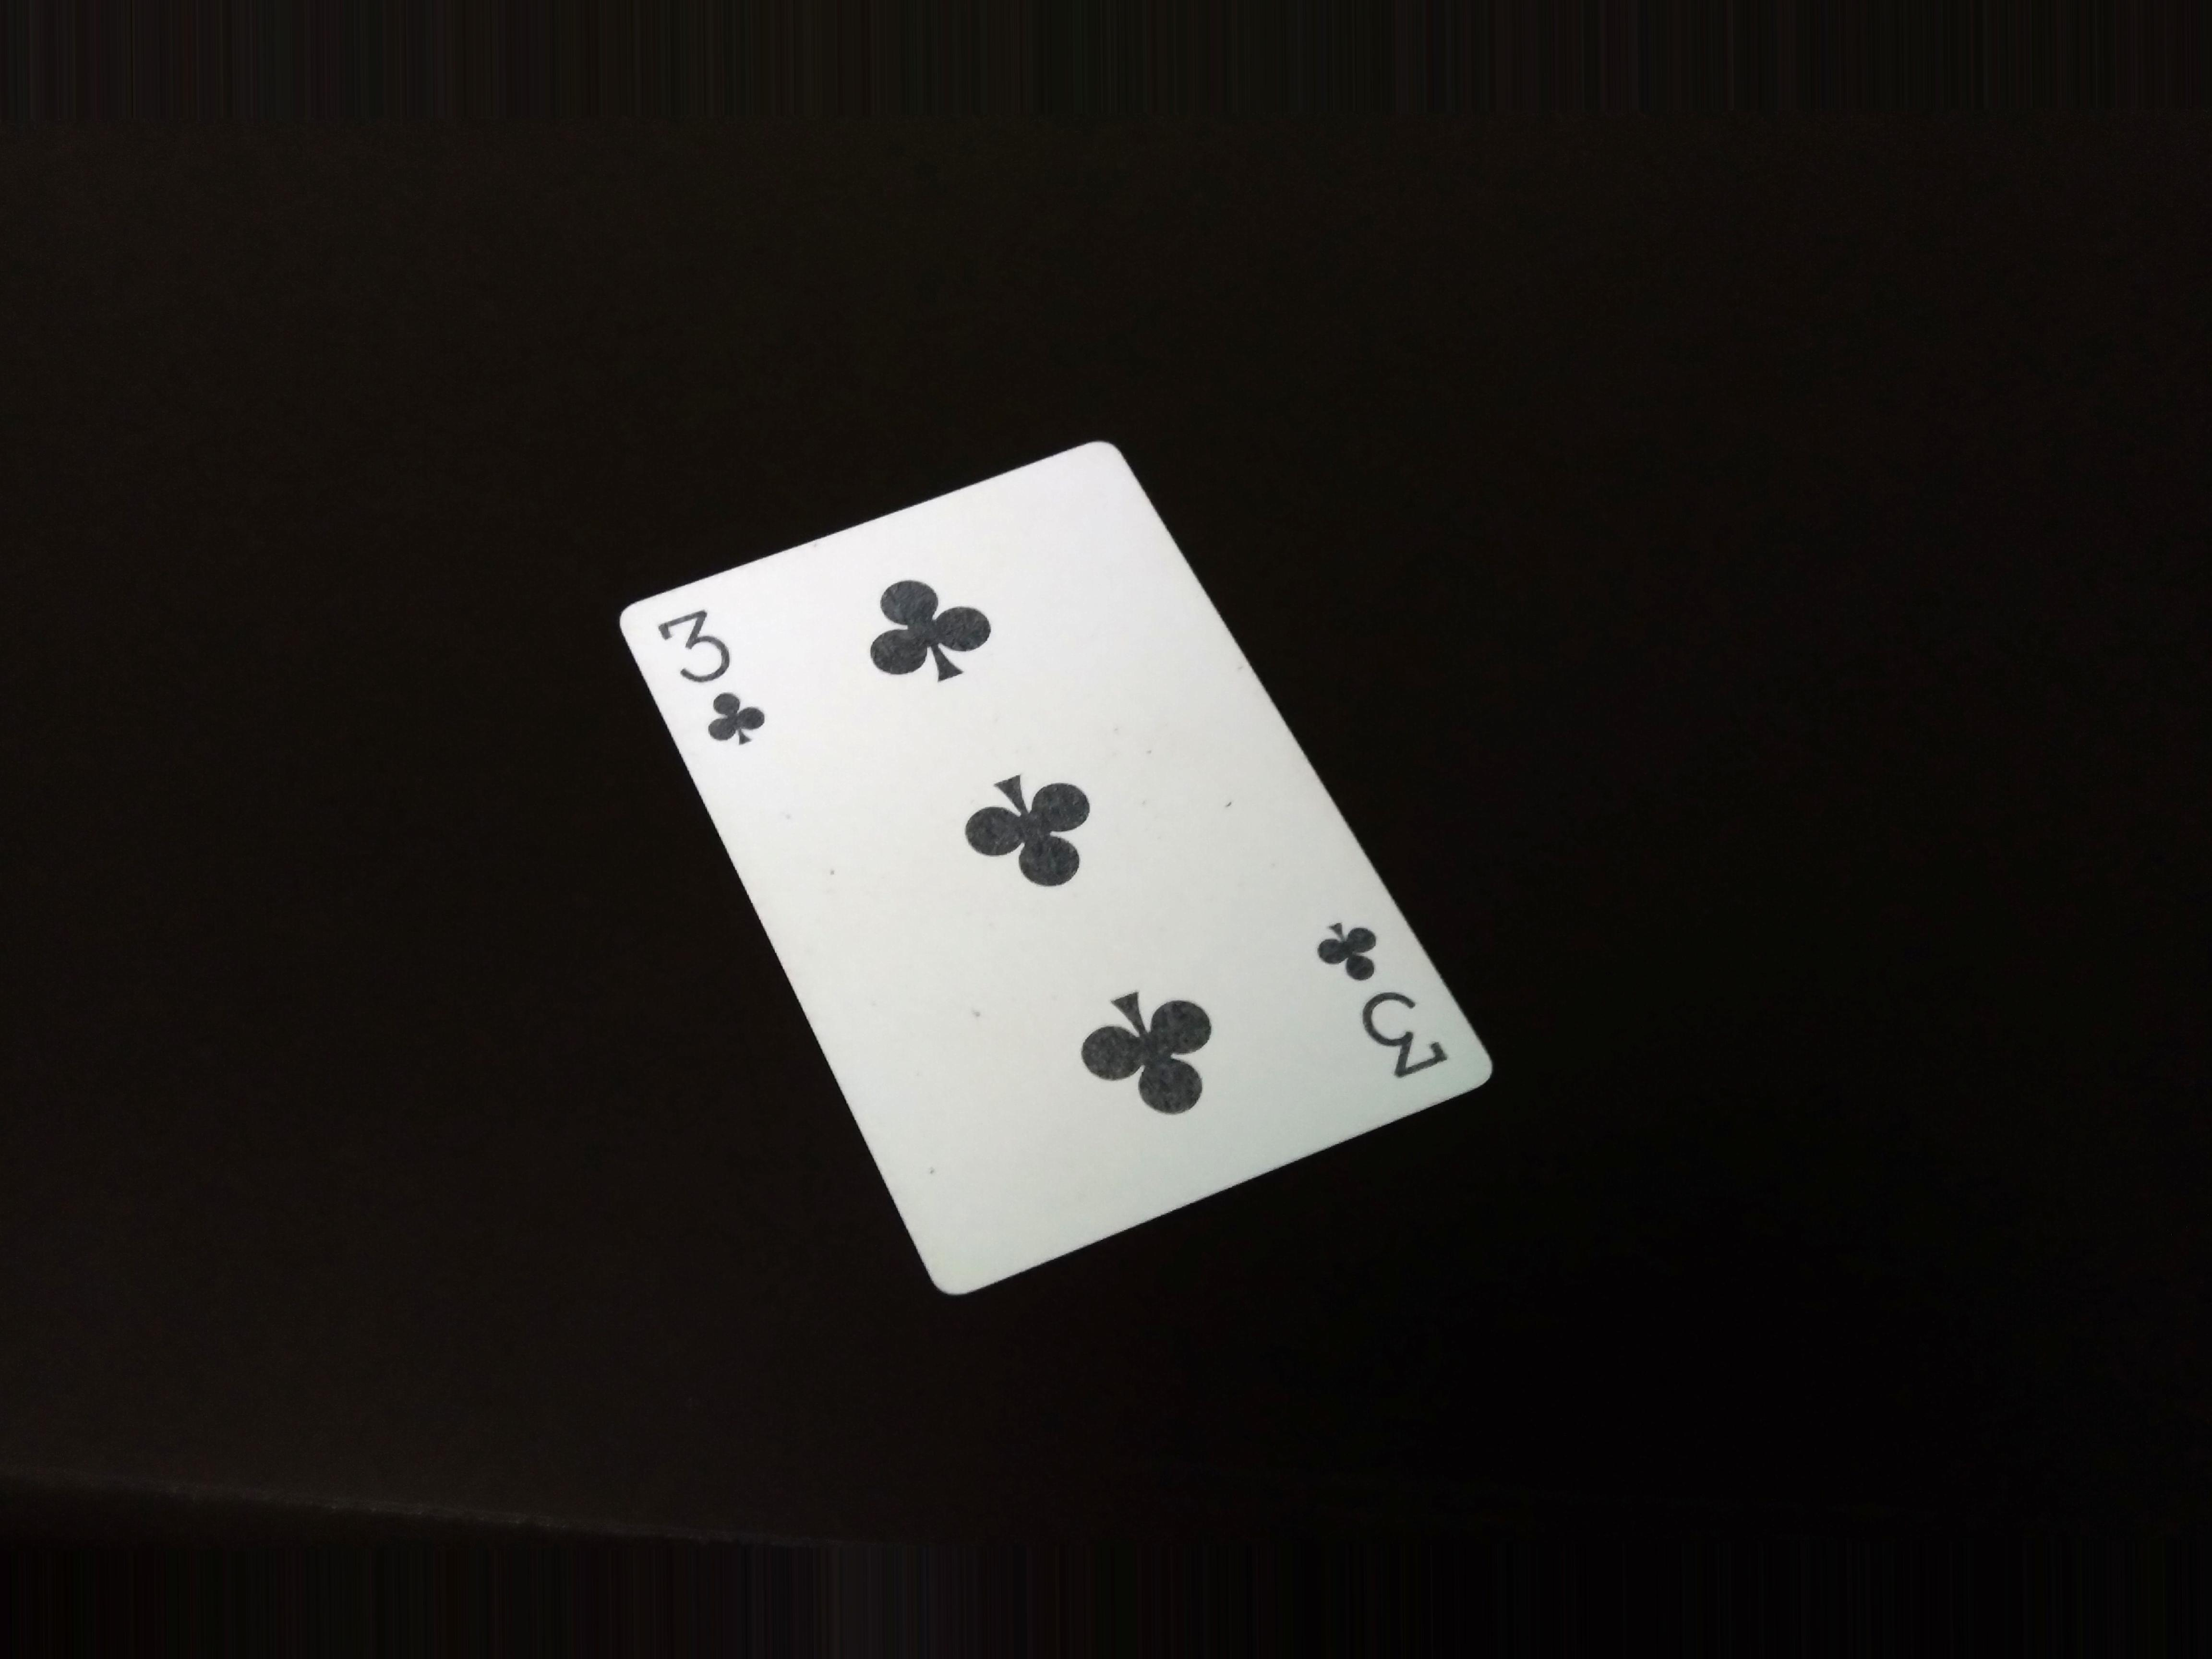3C: (637, 601, 782, 756)
